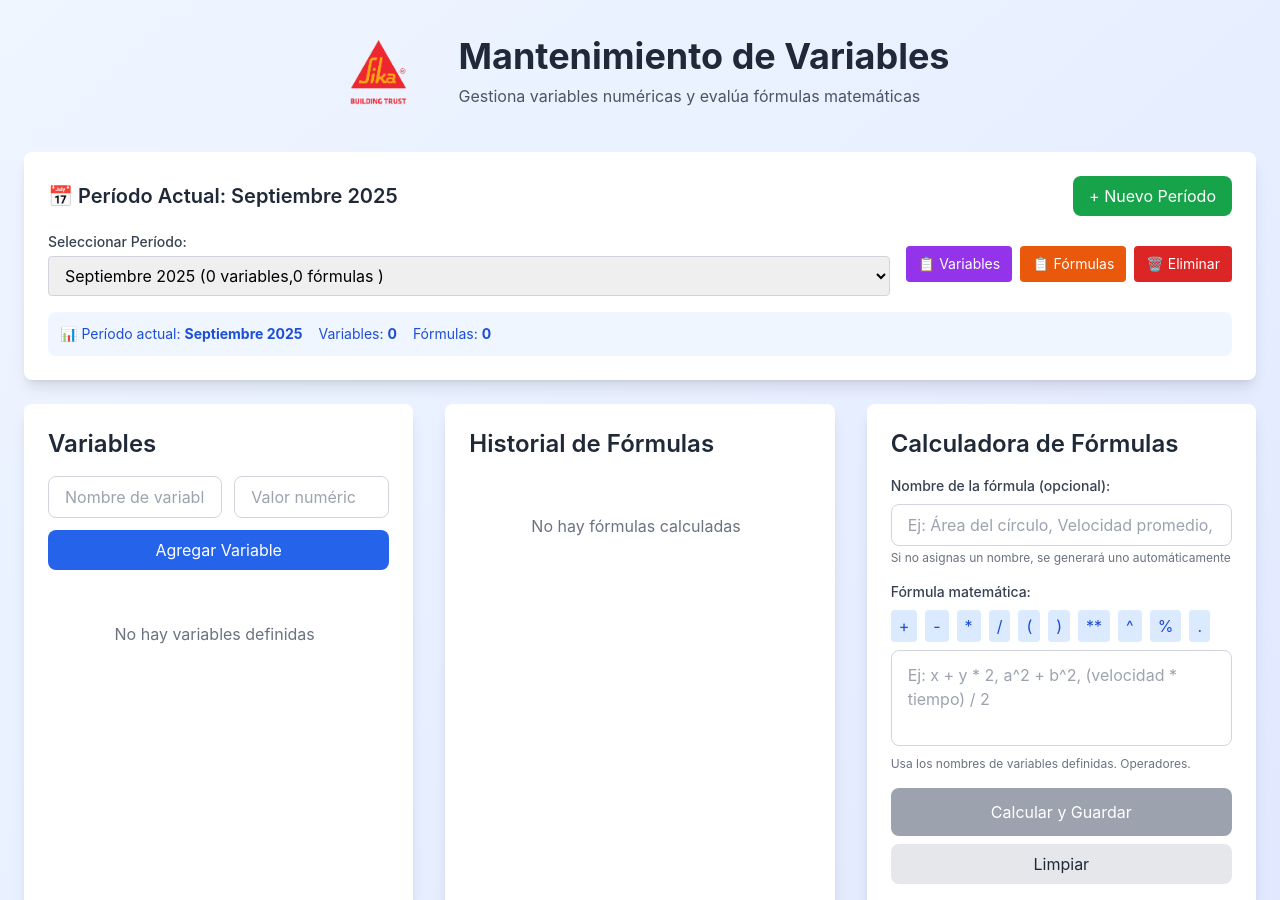
puede buscar una variable
Type "x" into the field with placeholder "Nombre de variable (ej: x, a, velocidad)" at (135,497), box [48, 476, 222, 518]
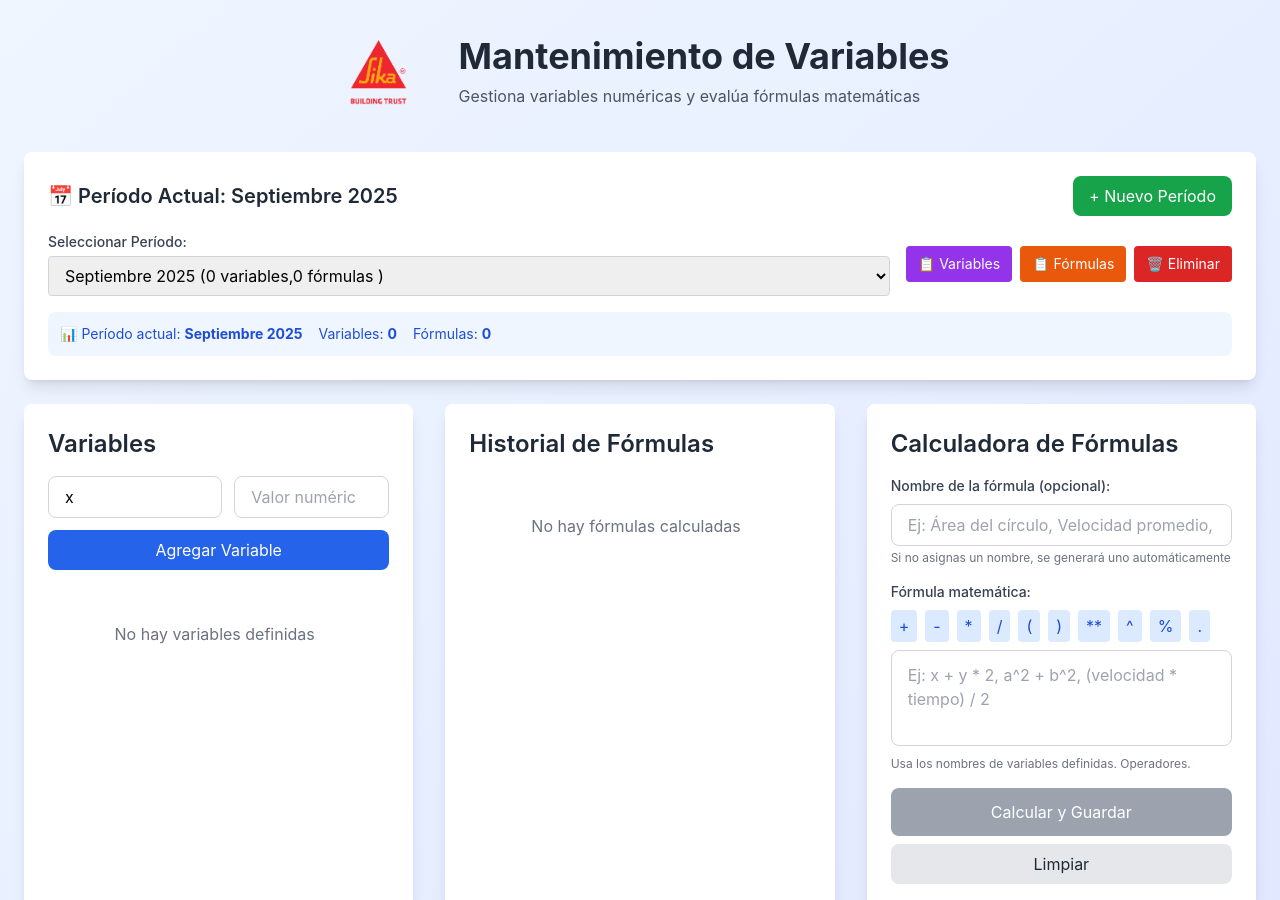
Type "10" into the number field with placeholder "Valor numérico" at (312,497), box [234, 476, 389, 518]
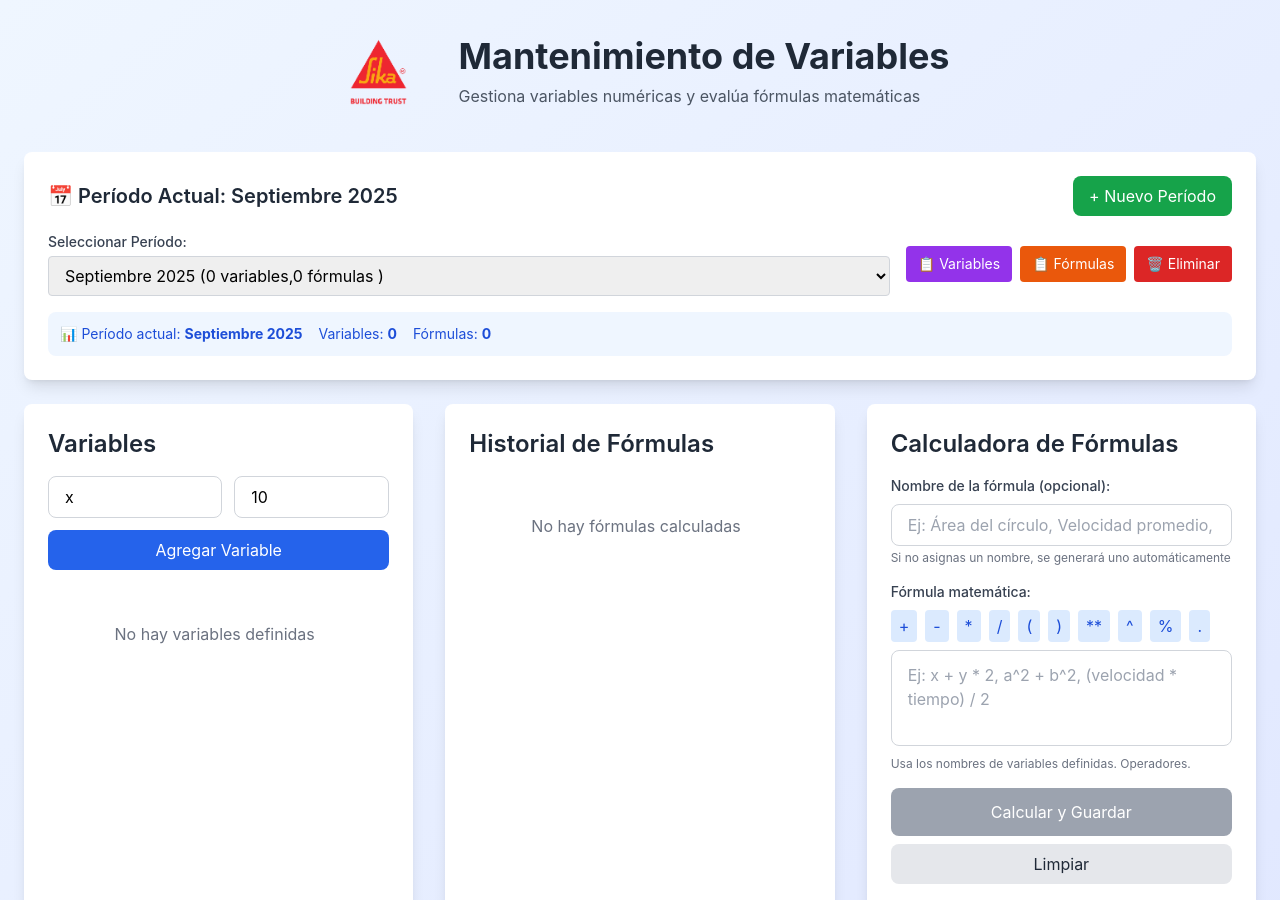
Click the button "Agregar Variable" at (219,550), box [48, 530, 389, 570]
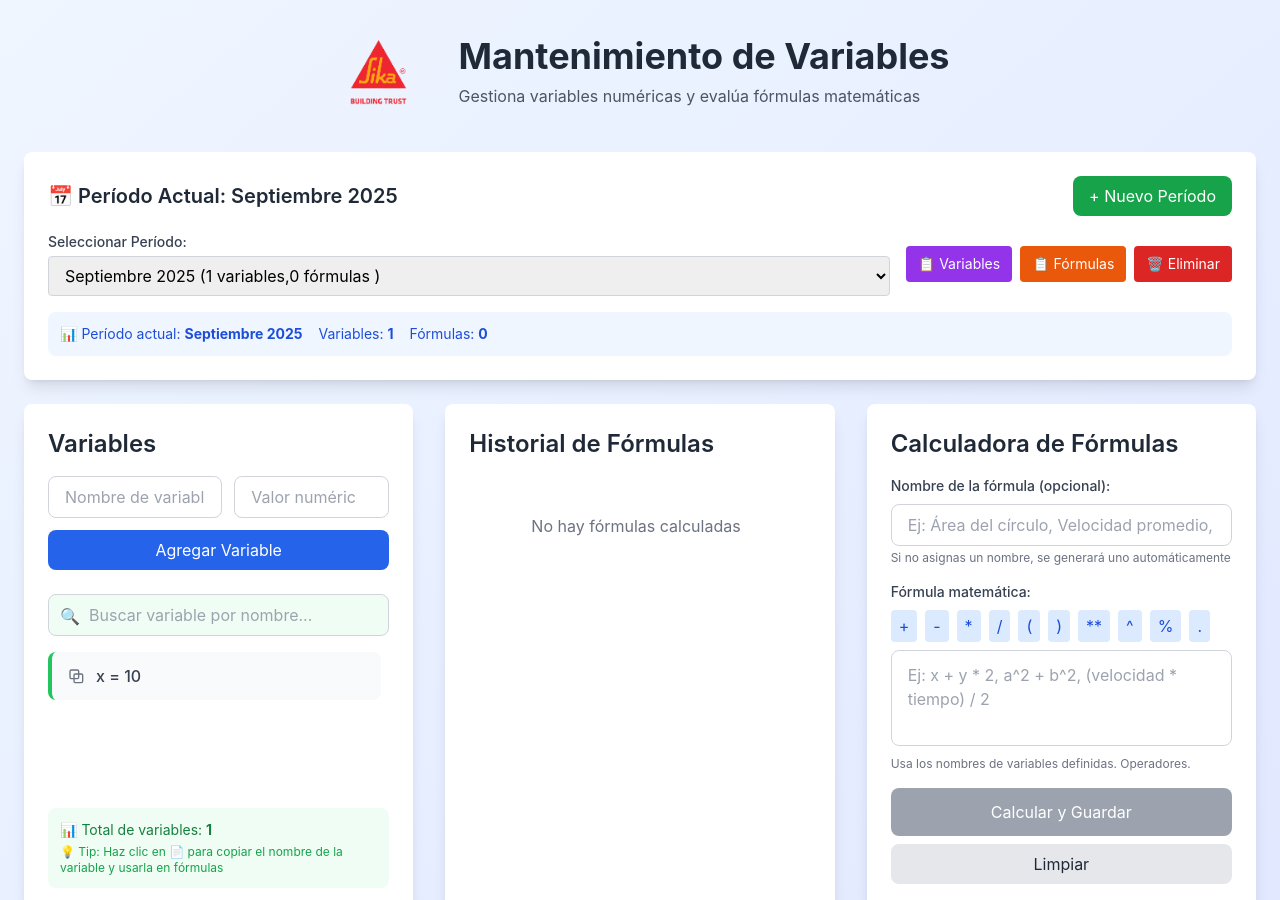
Note: Ahora sí existe el input de búsqueda
Type "y" into the field with placeholder "Buscar variable por nombre..." at (219,615), box [48, 594, 389, 636]
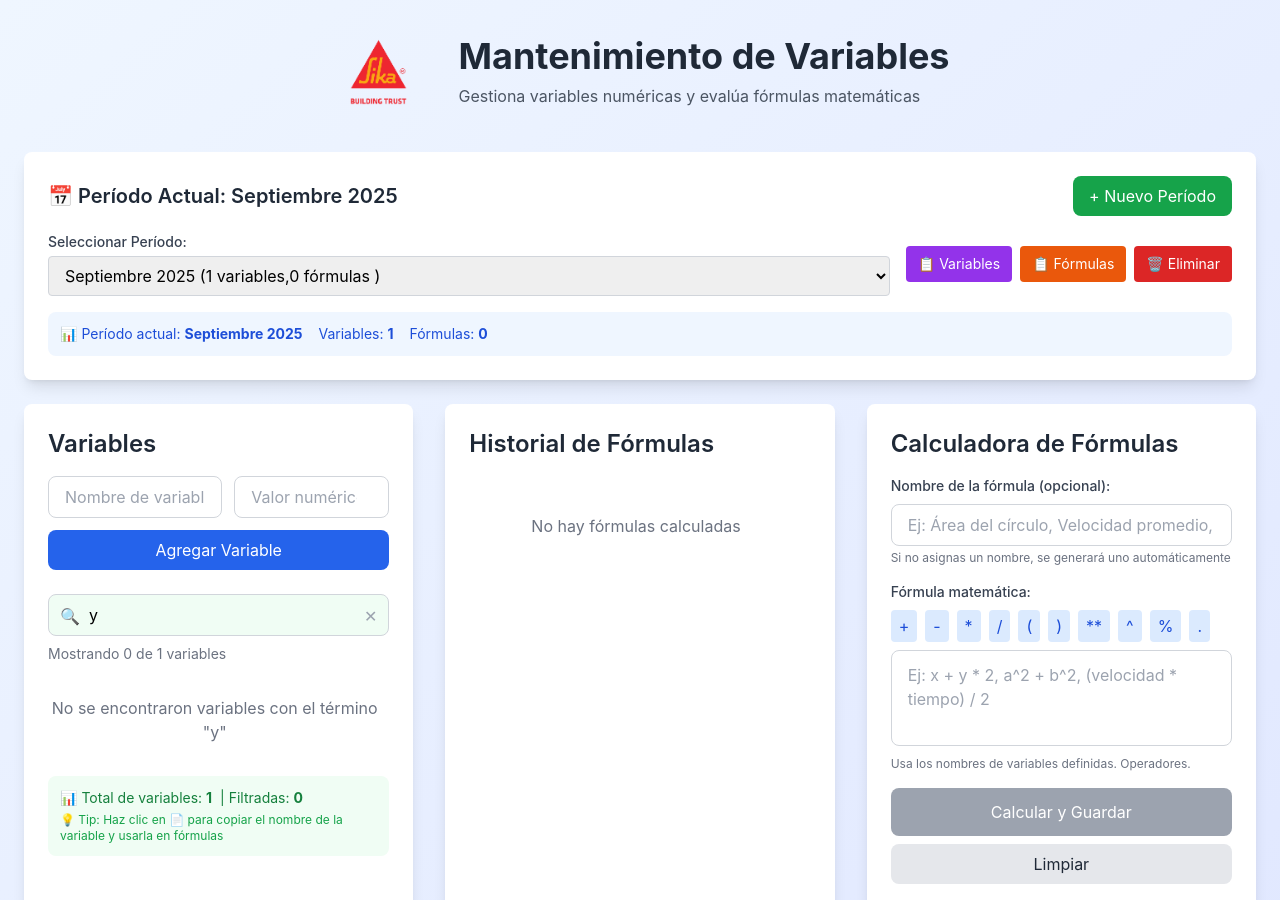
Expected: the text "No se encontraron variables con el término \"y\"" is shown, [48, 696, 381, 744]
